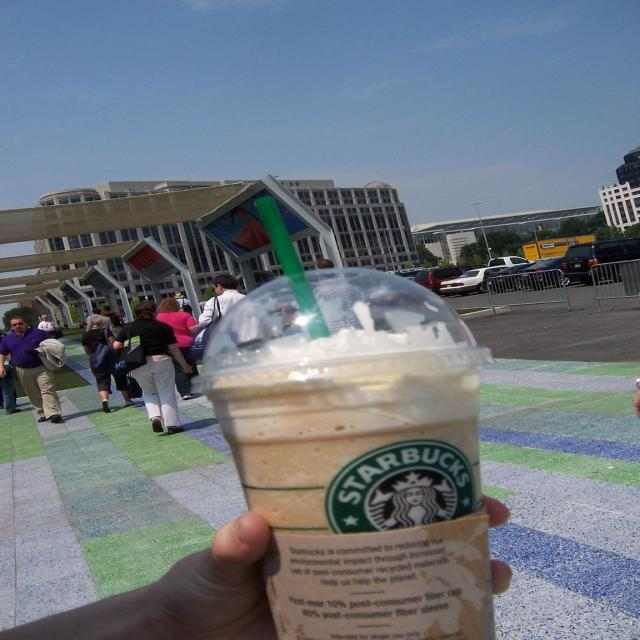starbucks: (326, 442, 477, 535)
